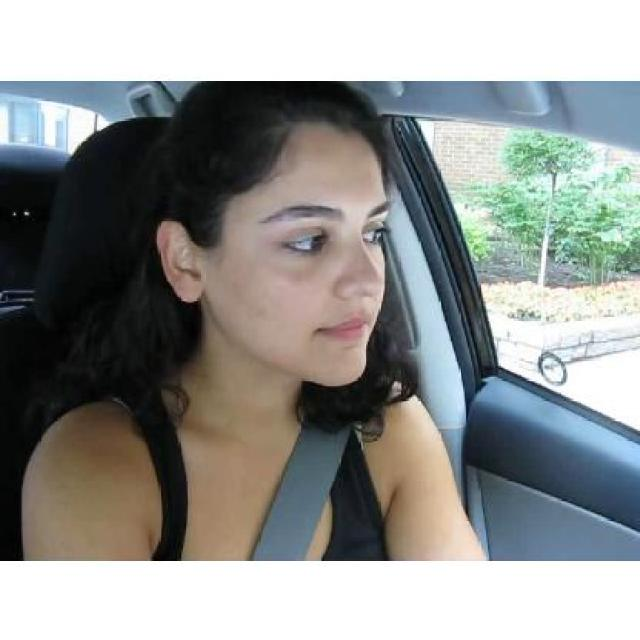attentif: (158, 83, 387, 385)
